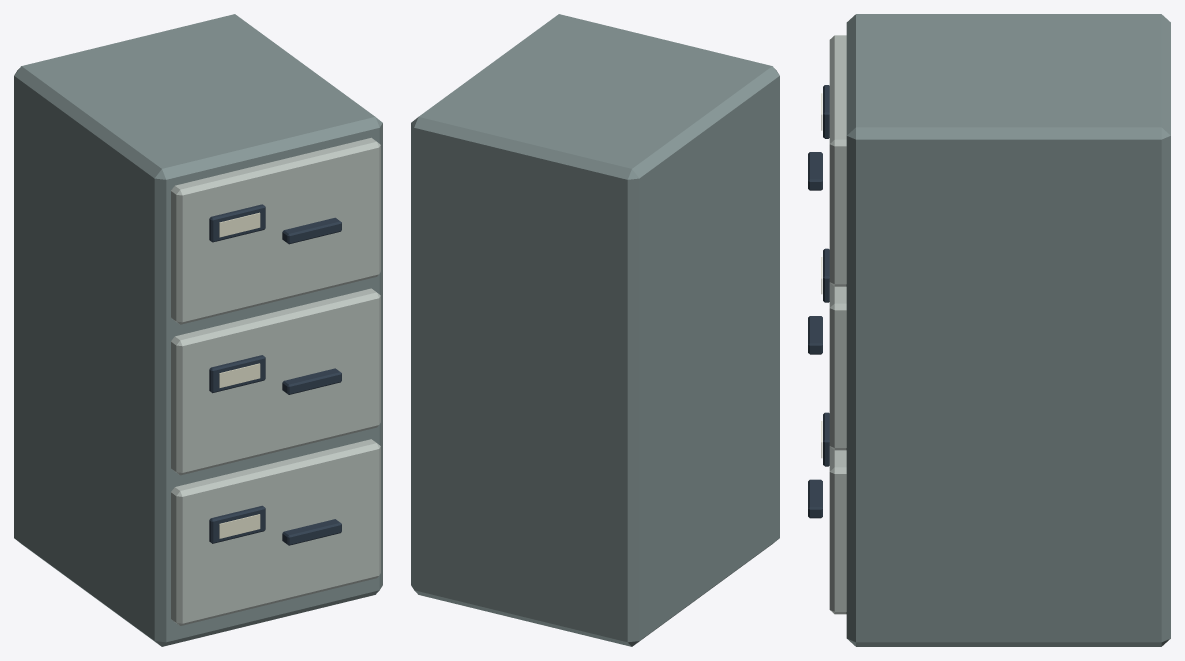
Rendered from filing_cabinet.glb.
3 renders of one model, left to right at view 1: azimuth 30°, elevation 25°; view 2: azimuth 150°, elevation 25°; view 3: azimuth 270°, elevation 25°, orthographic. The views are drawn at different scales.
Parts seen in each view (by area): view 1: filing_cabinet__metal_light, filing_cabinet__steel, filing_cabinet__metal, filing_cabinet__paper; view 2: filing_cabinet__metal_light; view 3: filing_cabinet__metal_light, filing_cabinet__steel, filing_cabinet__metal.
Boxes of the visible parts, left/top/right/bottom form: filing_cabinet__metal_light: left=14, top=14, right=382, bottom=646; filing_cabinet__steel: left=171, top=137, right=380, bottom=625; filing_cabinet__metal: left=209, top=204, right=341, bottom=545; filing_cabinet__paper: left=219, top=212, right=260, bottom=538; filing_cabinet__metal_light: left=411, top=14, right=779, bottom=646; filing_cabinet__metal_light: left=846, top=14, right=1170, bottom=646; filing_cabinet__steel: left=829, top=35, right=846, bottom=614; filing_cabinet__metal: left=808, top=85, right=829, bottom=518.
Size of the model in its own units: 0.46 by 0.92 by 0.582.
